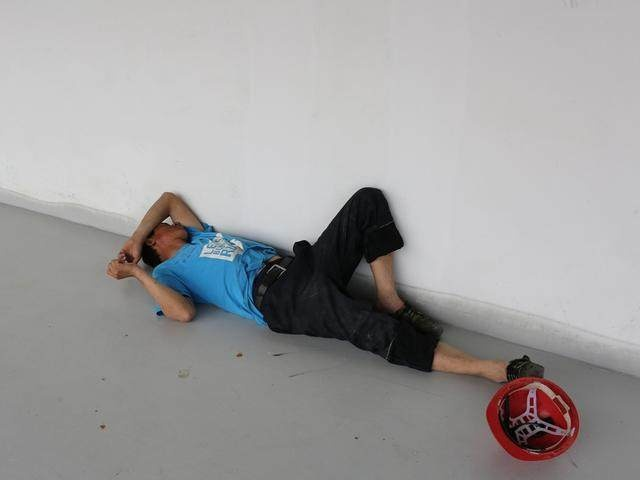falling: (99, 174, 550, 401)
